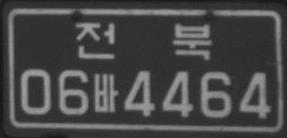0: (20, 68, 51, 115)
4: (161, 70, 194, 118), (238, 72, 271, 119), (123, 69, 155, 116)
6: (199, 69, 232, 118), (58, 69, 89, 115)
바: (93, 73, 118, 113)
전북_D: (75, 21, 211, 60)
